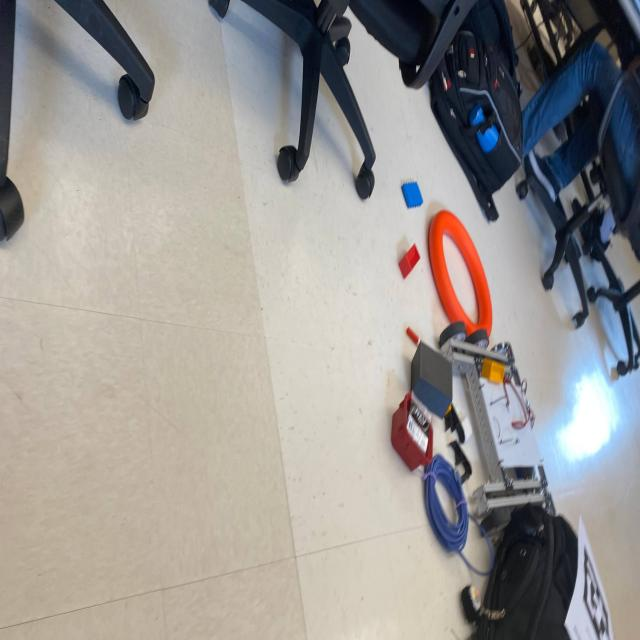red-specimen: (399, 244, 420, 278)
yellow-specimen: (482, 359, 505, 383)
